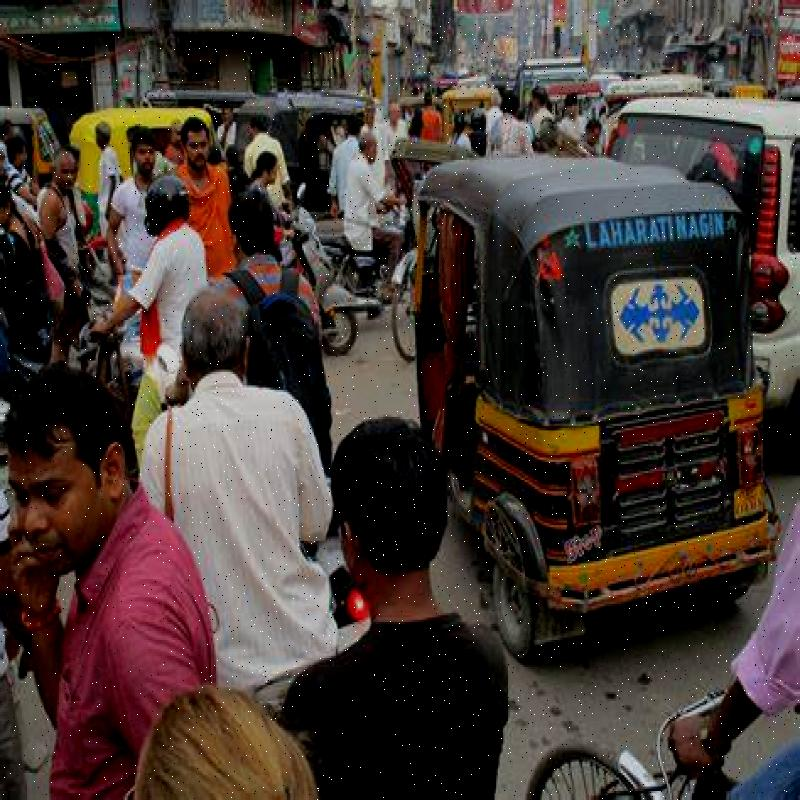auto: (394, 128, 800, 660)
